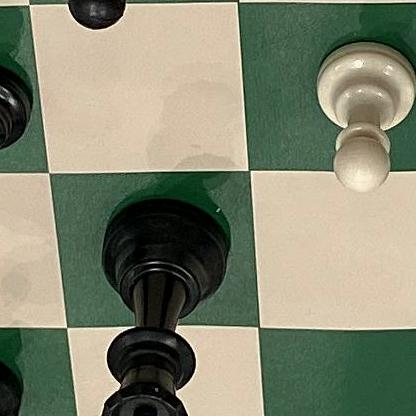black-pawn: (0, 54, 39, 223), (51, 0, 178, 36)
black-queen: (92, 198, 236, 416)
white-pawn: (310, 38, 416, 202)
